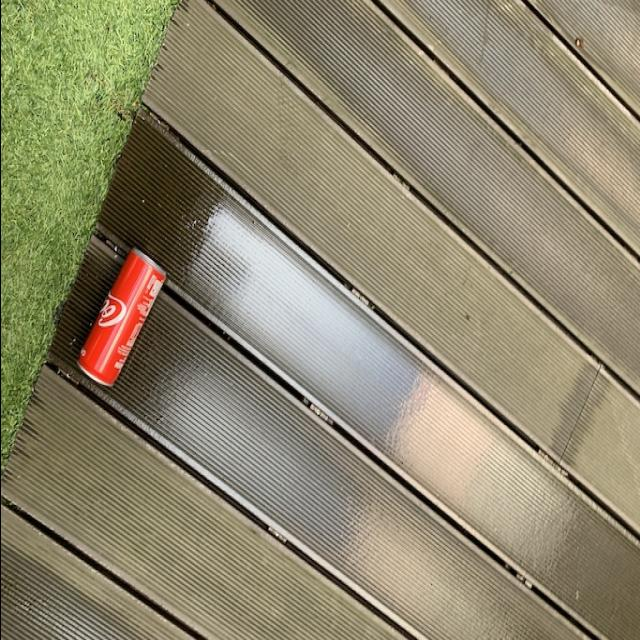litter: (70, 243, 168, 402)
